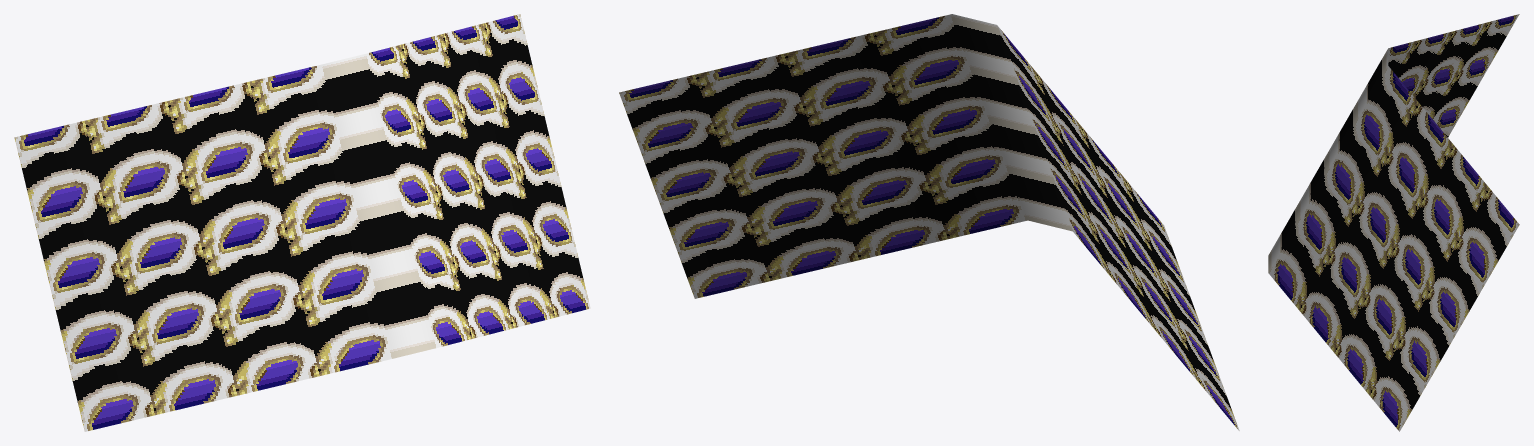
Rendered from 5774head056_c.gltf.
3 views of the same model, side by side, from view 1: azimuth 30°, elevation 25°; view 2: azimuth 150°, elevation 25°; view 3: azimuth 270°, elevation 25° (orthographic). The views are drawn at different scales.
Visible parts, largest first — view 1: 5774head056_c; view 2: 5774head056_c; view 3: 5774head056_c.
Part boxes in pixels (x1,y1,x2,y2): 5774head056_c: (14, 14, 590, 431); 5774head056_c: (619, 14, 1239, 430); 5774head056_c: (1268, 14, 1519, 431).
Size of the model in its own units: 0.6523 by 0.3896 by 0.3291.
Materials: 1 (1 with a texture image).
